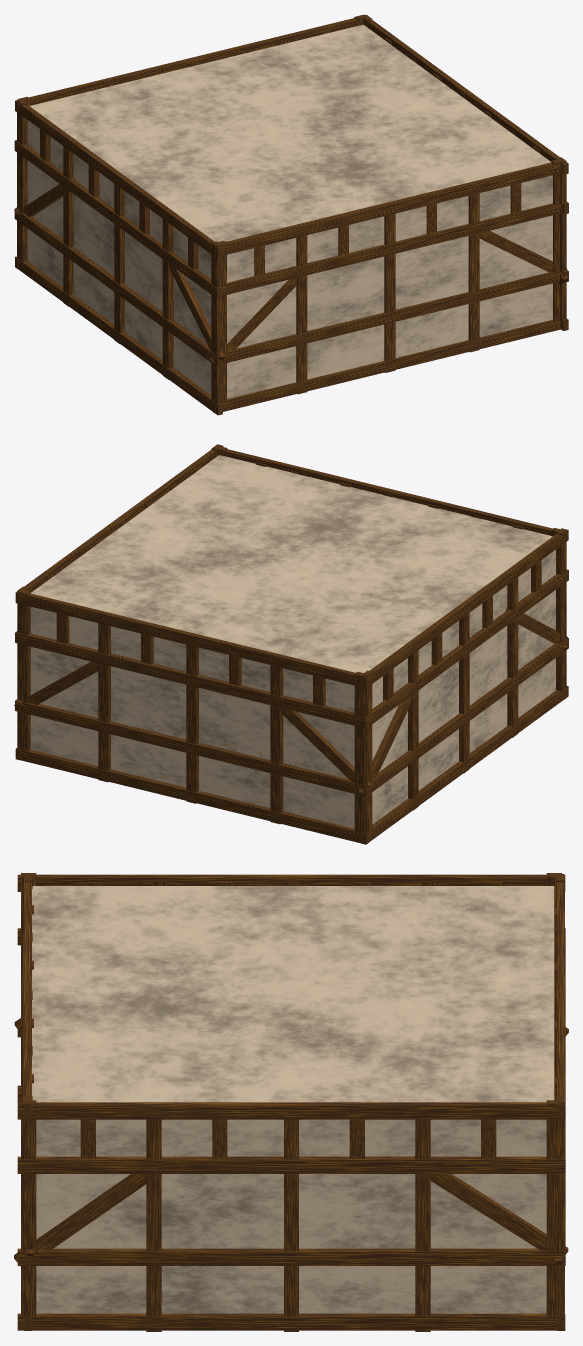
The model's file is Wall Big.fbx.
3 views of the same model, one above another, from view 1: azimuth 30°, elevation 25°; view 2: azimuth 150°, elevation 25°; view 3: azimuth 270°, elevation 25° (orthographic). The views are drawn at different scales.
Visible parts, largest first — view 1: Wall 2; view 2: Wall 2; view 3: Wall 2.
Boxes of the visible parts, bbox=[...] form: Wall 2: bbox=[14, 14, 568, 415]; Wall 2: bbox=[14, 444, 568, 844]; Wall 2: bbox=[14, 873, 568, 1331].
Bounding box in the file's own units: 929 × 929 × 421.
